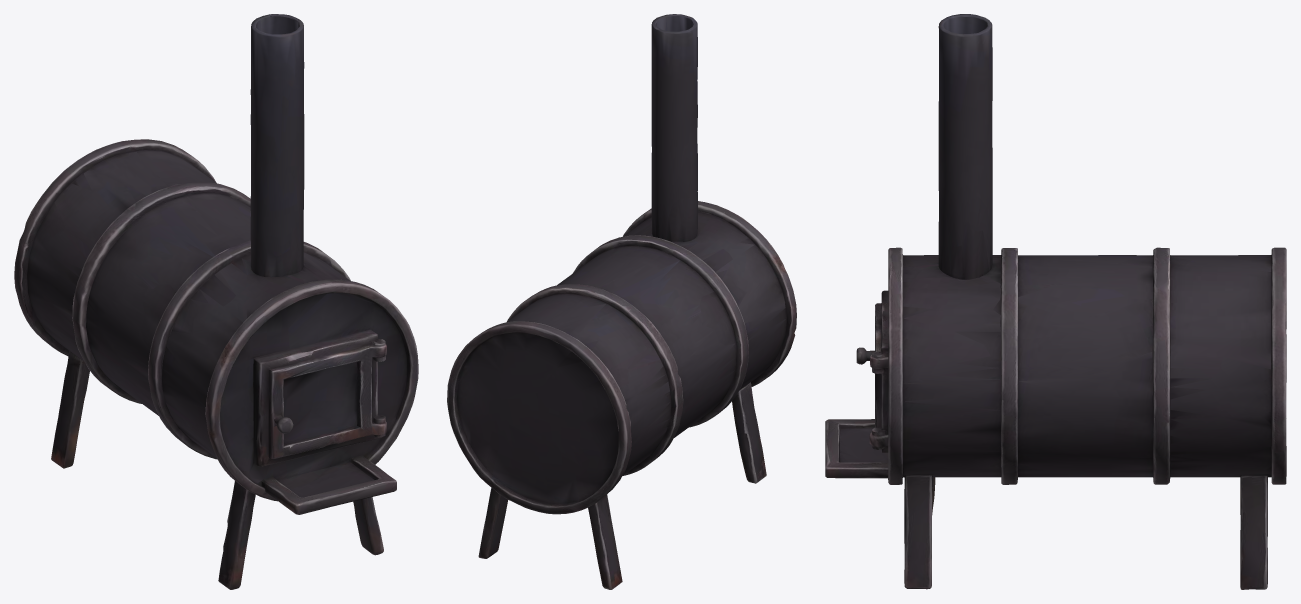
Rendered from stove_heat_stalnaya_bochka_idle.glb.
3 renders of one model, left to right at view 1: azimuth 30°, elevation 25°; view 2: azimuth 150°, elevation 25°; view 3: azimuth 270°, elevation 25°, orthographic. The views are drawn at different scales.
Parts seen in each view (by area): view 1: tripo_node_b0cf6db2-463b-4628-b83d-dda17b00cd60; view 2: tripo_node_b0cf6db2-463b-4628-b83d-dda17b00cd60; view 3: tripo_node_b0cf6db2-463b-4628-b83d-dda17b00cd60.
Boxes of the visible parts, box(x1,y1,x2,y2) form: tripo_node_b0cf6db2-463b-4628-b83d-dda17b00cd60: box(14, 14, 418, 589); tripo_node_b0cf6db2-463b-4628-b83d-dda17b00cd60: box(447, 14, 796, 589); tripo_node_b0cf6db2-463b-4628-b83d-dda17b00cd60: box(825, 14, 1286, 589).
Size of the model in its own units: 0.3726 by 0.8998 by 0.7126.
Materials: 1 (1 with a texture image).
